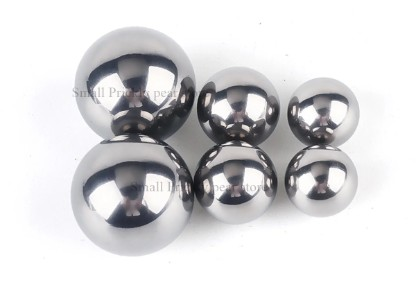ironball: (70, 133, 194, 256), (73, 25, 196, 141), (193, 140, 277, 224), (196, 65, 280, 145), (284, 143, 357, 217), (286, 76, 359, 146)
